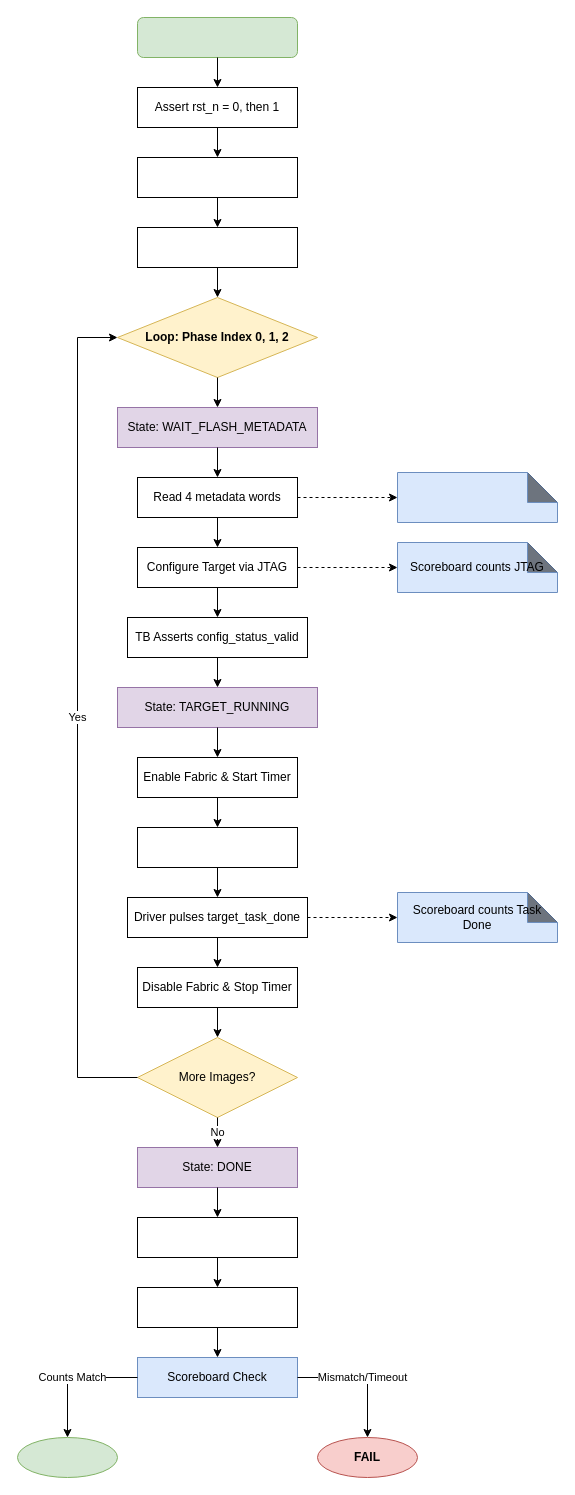
This 575x1495 diagram has some shape labels left out. Here are the shapes that lost their labels. From the top down, the centre of each, then its label:
point (217, 37): Start Simulation tb_top
point (217, 177): base_test starts sequence
point (217, 247): Driver pulses schedule_start
point (477, 497): Scoreboard counts Metadata
point (217, 847): Driver waits simulated time
point (217, 1237): DUT asserts finished signal
point (217, 1307): Test drops objection
point (67, 1457): PASS
